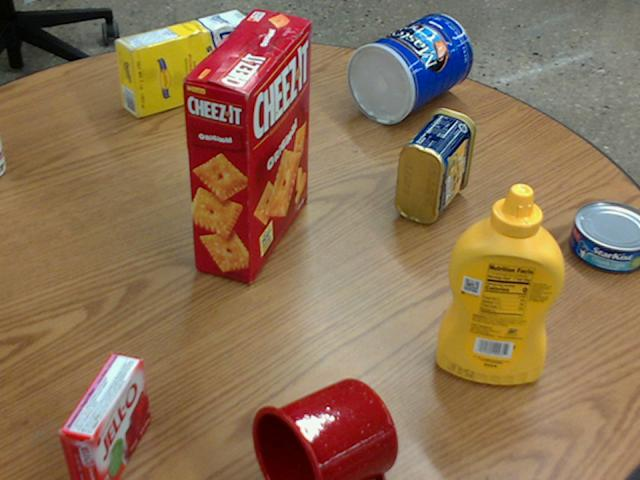cracker_box: (182, 9, 311, 282)
gelatin_box: (53, 352, 146, 479)
master_chef_can: (345, 13, 471, 123)
mug: (248, 379, 396, 479)
mustard_bottle: (434, 183, 563, 383)
potted_meat_can: (395, 107, 474, 223)
sugar_box: (115, 8, 252, 116)
tomato_soup_can: (0, 143, 4, 174)
tuna_fish_can: (567, 201, 639, 273)
